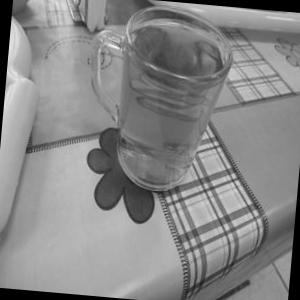tea: (88, 0, 236, 211)
